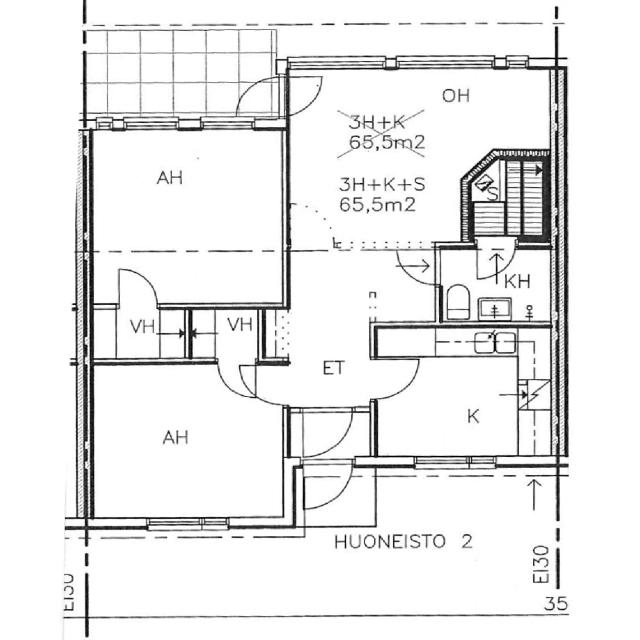door: (299, 462, 359, 522), (298, 408, 358, 460), (370, 356, 422, 400), (114, 265, 162, 307), (472, 240, 520, 282), (234, 76, 281, 118), (394, 248, 441, 287), (214, 360, 257, 398), (285, 74, 324, 115)
window: (409, 452, 486, 476), (143, 514, 219, 538), (286, 56, 391, 72), (398, 57, 491, 73), (198, 118, 260, 134), (120, 118, 181, 134), (464, 454, 500, 472), (198, 515, 232, 534), (502, 55, 531, 71)
zone: (80, 364, 283, 516), (294, 74, 466, 247), (85, 128, 286, 252), (374, 339, 552, 460), (286, 250, 440, 326), (92, 307, 261, 364), (439, 245, 553, 324), (184, 307, 265, 363)
